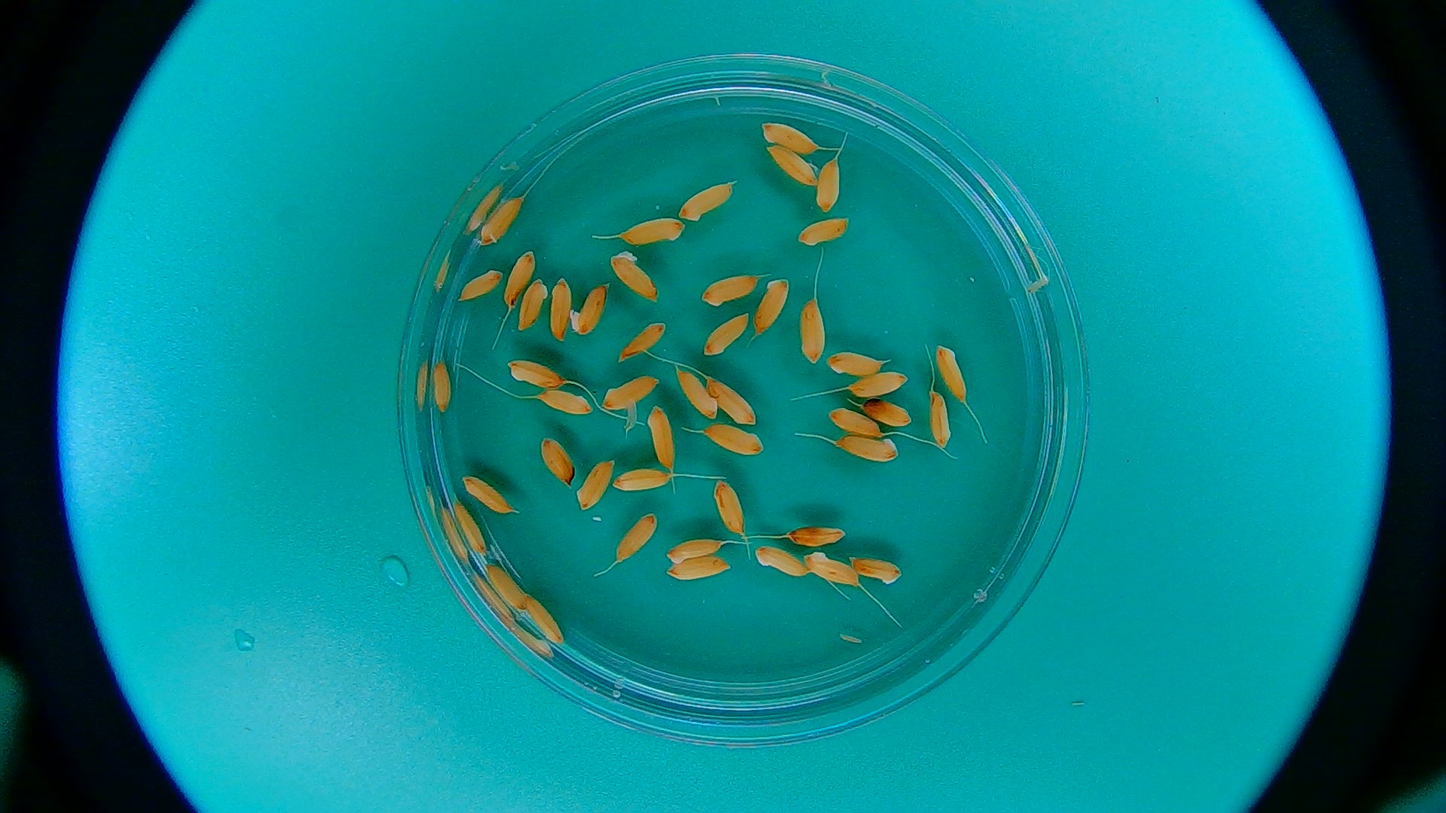no: (609, 251, 660, 302), (476, 191, 522, 247), (754, 273, 792, 337), (569, 285, 612, 341), (612, 511, 659, 562), (460, 473, 514, 516), (481, 561, 526, 612), (765, 145, 816, 189), (574, 458, 615, 512), (517, 276, 551, 341), (708, 375, 755, 422), (678, 181, 733, 221), (618, 319, 667, 363), (702, 424, 765, 458), (601, 374, 660, 410), (801, 551, 861, 586), (676, 368, 717, 418), (760, 120, 820, 154), (710, 478, 746, 534), (621, 217, 686, 248), (526, 595, 565, 646), (703, 312, 749, 355), (935, 343, 967, 404), (645, 406, 677, 467), (700, 273, 759, 306), (450, 498, 485, 553), (539, 437, 576, 489), (798, 300, 827, 366), (837, 434, 901, 463), (663, 537, 731, 564), (752, 544, 806, 576), (505, 251, 534, 309), (506, 358, 562, 388), (536, 388, 593, 416), (850, 555, 903, 585), (798, 216, 851, 246), (862, 397, 915, 427), (827, 407, 883, 435), (784, 525, 847, 549), (614, 469, 672, 494), (847, 373, 910, 396), (816, 156, 840, 216), (670, 557, 732, 580), (827, 350, 883, 375), (457, 269, 502, 300), (550, 277, 571, 343), (928, 391, 951, 449), (430, 356, 453, 413)
